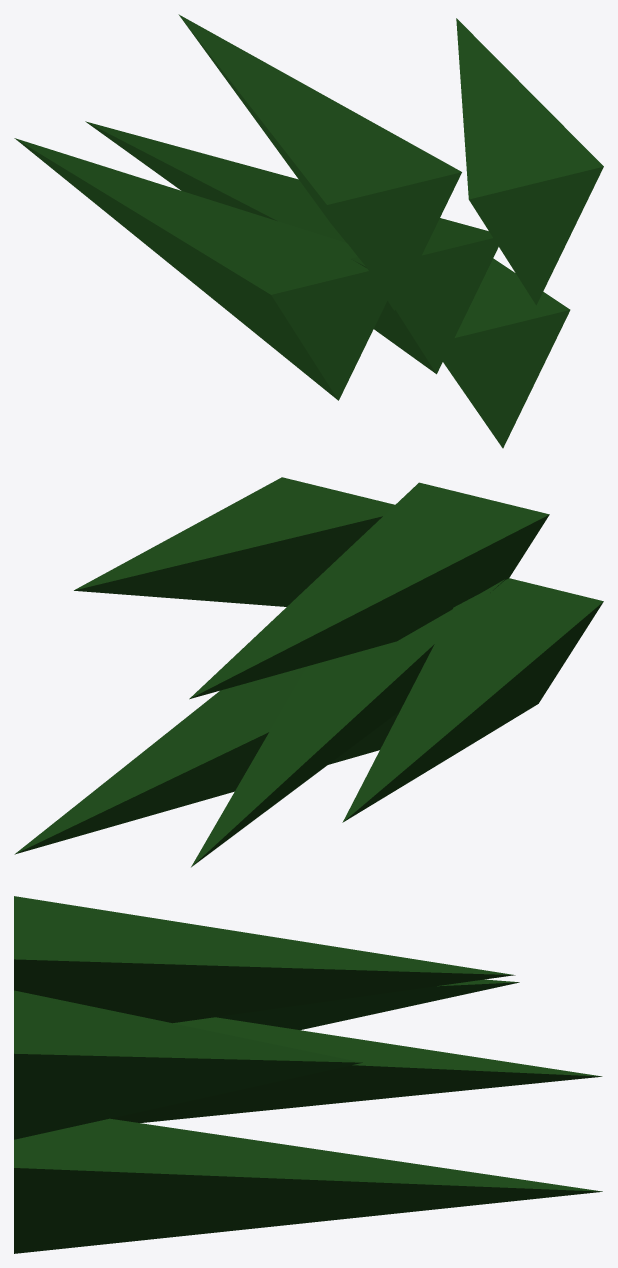
Rendered from Grass 4.fbx.
3 views of the same model, one above another, from view 1: azimuth 30°, elevation 25°; view 2: azimuth 150°, elevation 25°; view 3: azimuth 270°, elevation 25° (orthographic). The views are drawn at different scales.
Parts seen in each view (by area): view 1: Grass 4; view 2: Grass 4; view 3: Grass 4.
Boxes of the visible parts, left/top/right/bottom form: Grass 4: left=14, top=14, right=603, bottom=448; Grass 4: left=14, top=477, right=603, bottom=867; Grass 4: left=14, top=896, right=602, bottom=1253.
Bounding box in the file's own units: 23.51 × 17.55 × 34.07.
